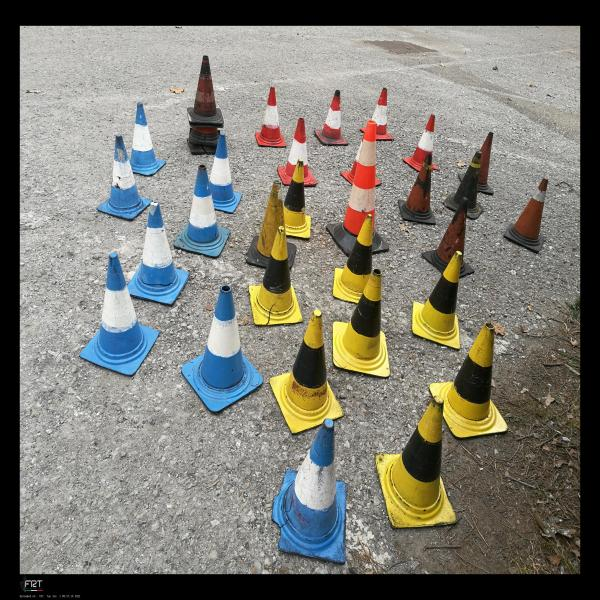blue_cone: (272, 418, 346, 564), (182, 285, 264, 412), (79, 253, 160, 375), (127, 202, 190, 306), (174, 165, 230, 257), (97, 134, 153, 220), (129, 102, 166, 176), (209, 133, 242, 213)
large_orange_cone: (326, 120, 389, 255)
orange_cone: (277, 118, 317, 186), (340, 129, 382, 186), (403, 114, 440, 172), (314, 90, 348, 146), (255, 86, 286, 147), (360, 88, 394, 140)
unknown_cone: (245, 179, 297, 269), (421, 197, 475, 277), (504, 177, 548, 252), (398, 152, 436, 224), (444, 151, 484, 219), (187, 56, 224, 124), (458, 132, 494, 195)
yellow_cone: (375, 396, 457, 528), (269, 309, 344, 434), (430, 322, 508, 438), (333, 269, 390, 377), (248, 226, 304, 325), (412, 250, 462, 350), (333, 214, 372, 303), (283, 159, 311, 239)
